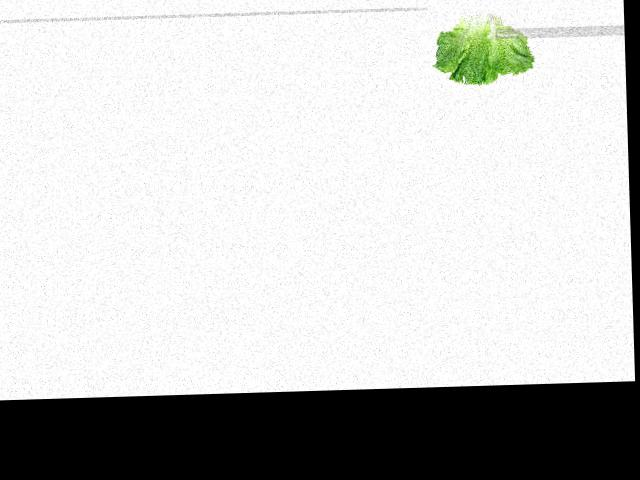lettuce: (432, 10, 530, 84)
